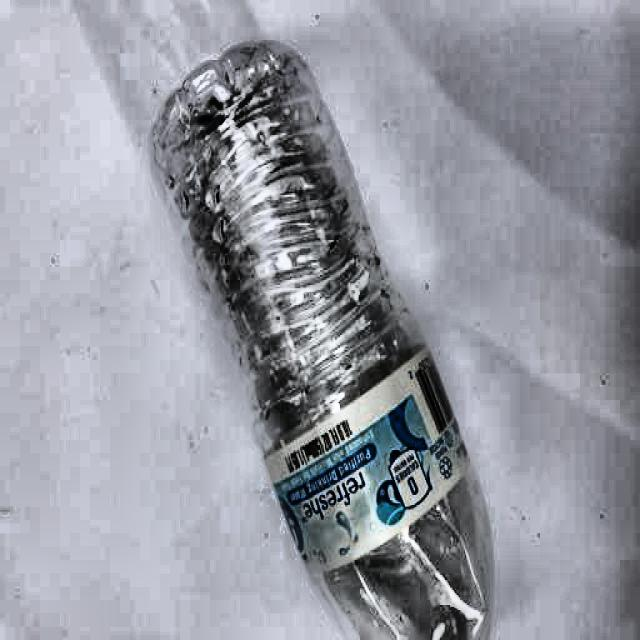plastic: (146, 33, 495, 640)
